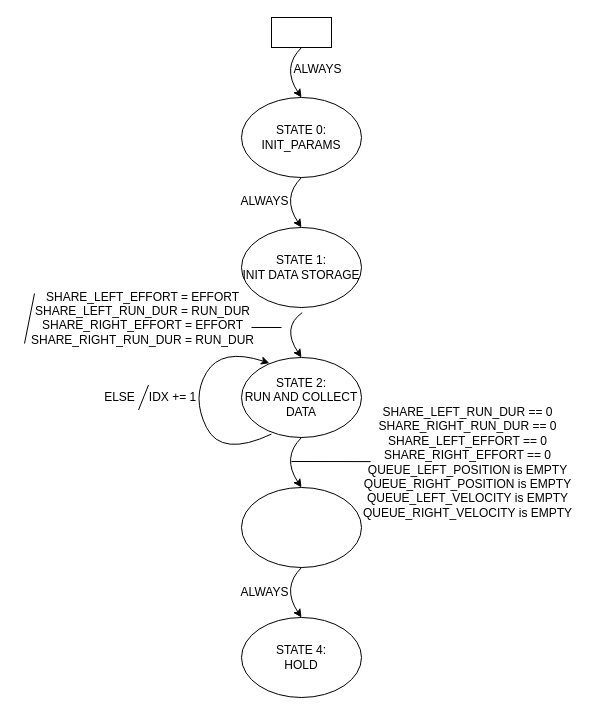
Some shapes in this 599 by 715 pixel diagram are drawn without their labels. The shapes that lost their labels are listed below. From the top down, each one's centre as x and y in pixels, then its label:
pixel 301 32: START
pixel 301 527: STATE 3: PRINT RESULTS
